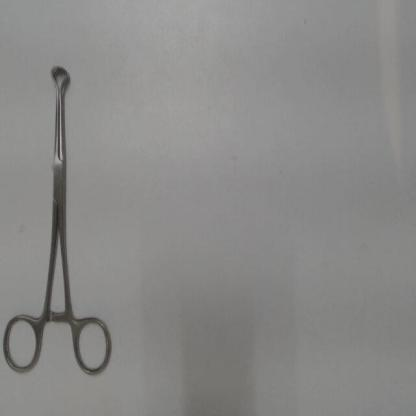Babcock Tissue Forceps: (1, 61, 115, 378)
